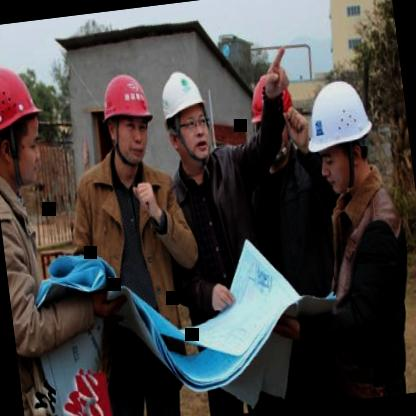helmet: (302, 70, 381, 198), (90, 64, 158, 170), (0, 57, 51, 195), (155, 66, 218, 172), (243, 70, 300, 164)
